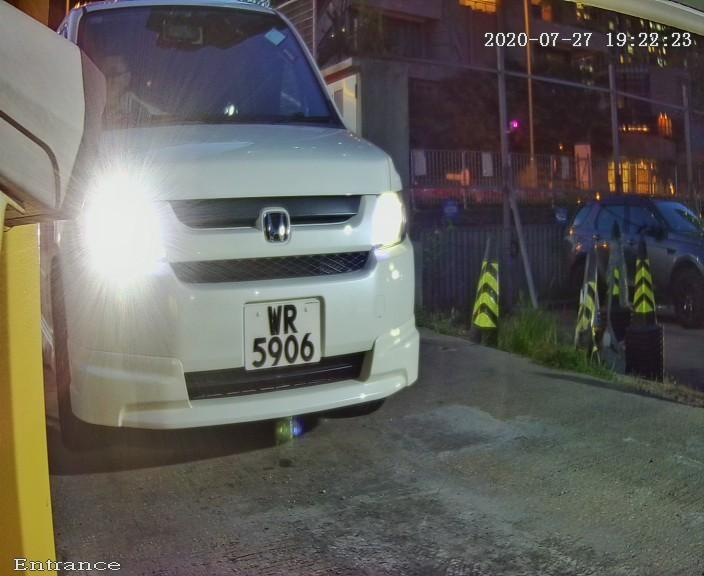privatecar: (38, 11, 444, 445)
